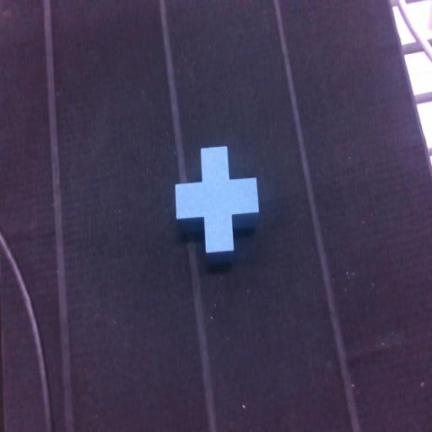cross: (176, 146, 259, 258)
